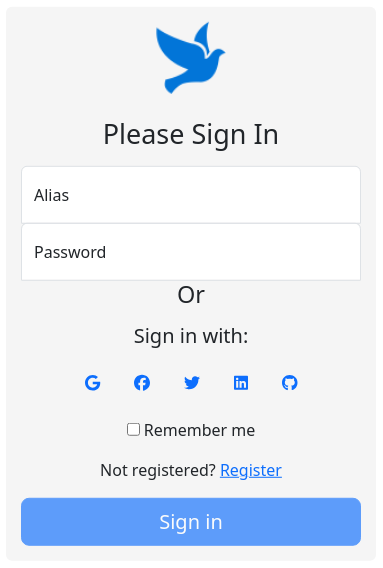
Test case: Login Component › The sign-in button is disabled when both the alias and password fields have text.
Type "a" into the field labelled "Alias". click: (191, 195)
box: [21,166,361,224]
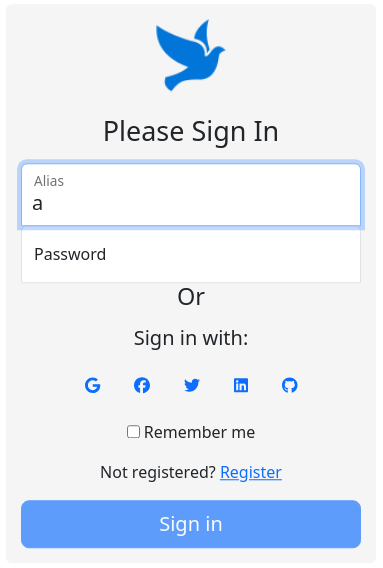
Type "b" into the password field labelled "Password". click: (191, 255)
box: [21,226,361,284]
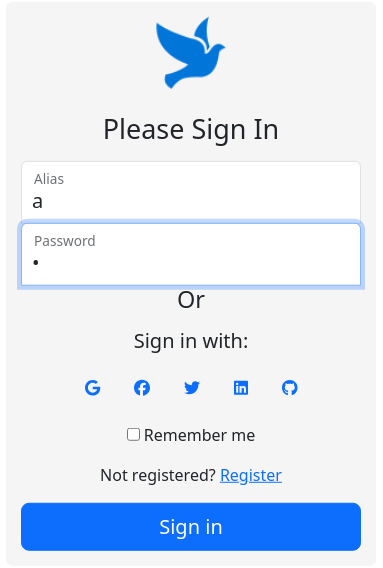
Check: the button "Sign in" is enabled, box [21,503,361,551]
Clear the field labelled "Alias". click: (191, 193)
box: [21,161,361,224]
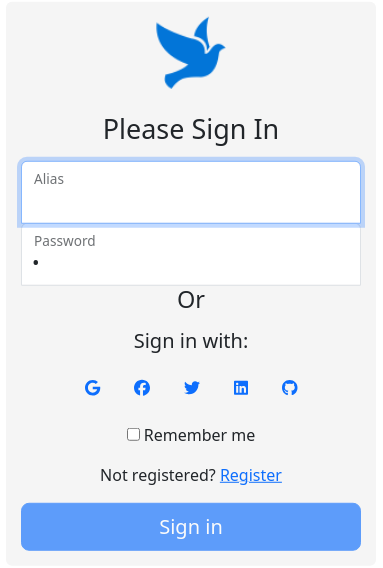
Check: the button "Sign in" is disabled, box [21,503,361,551]
Type "a" into the field labelled "Alias". click: (191, 193)
box: [21,161,361,224]
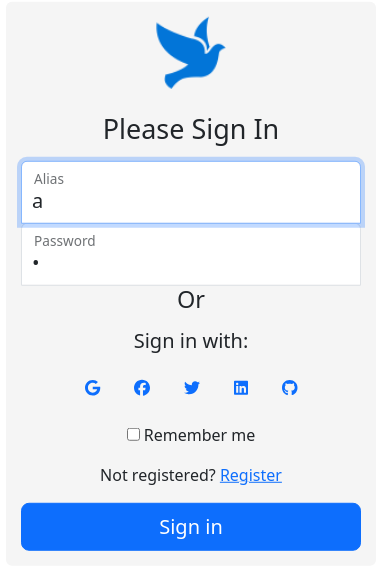
Clear the password field labelled "Password". click: (191, 255)
box: [21,223,361,286]
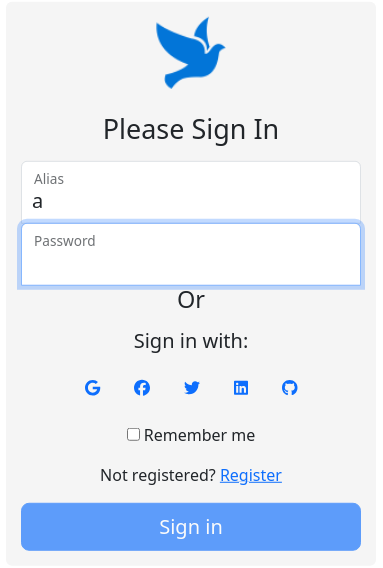
Check: the button "Sign in" is disabled, box [21,503,361,551]
